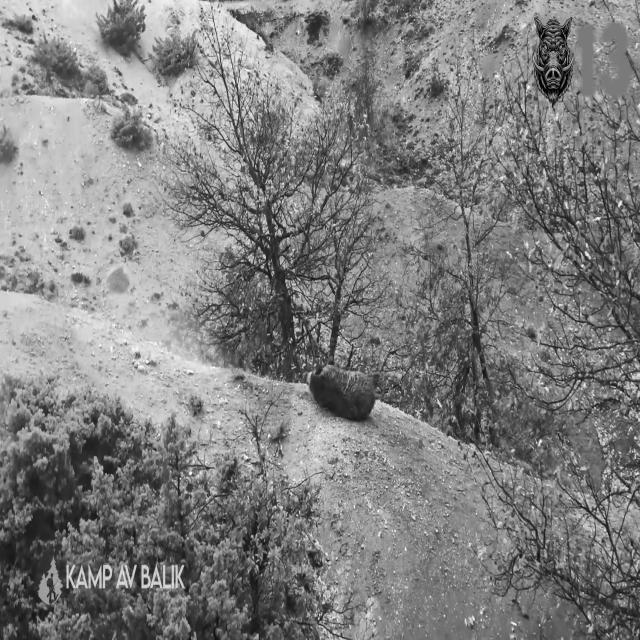boar: (308, 364, 374, 419)
